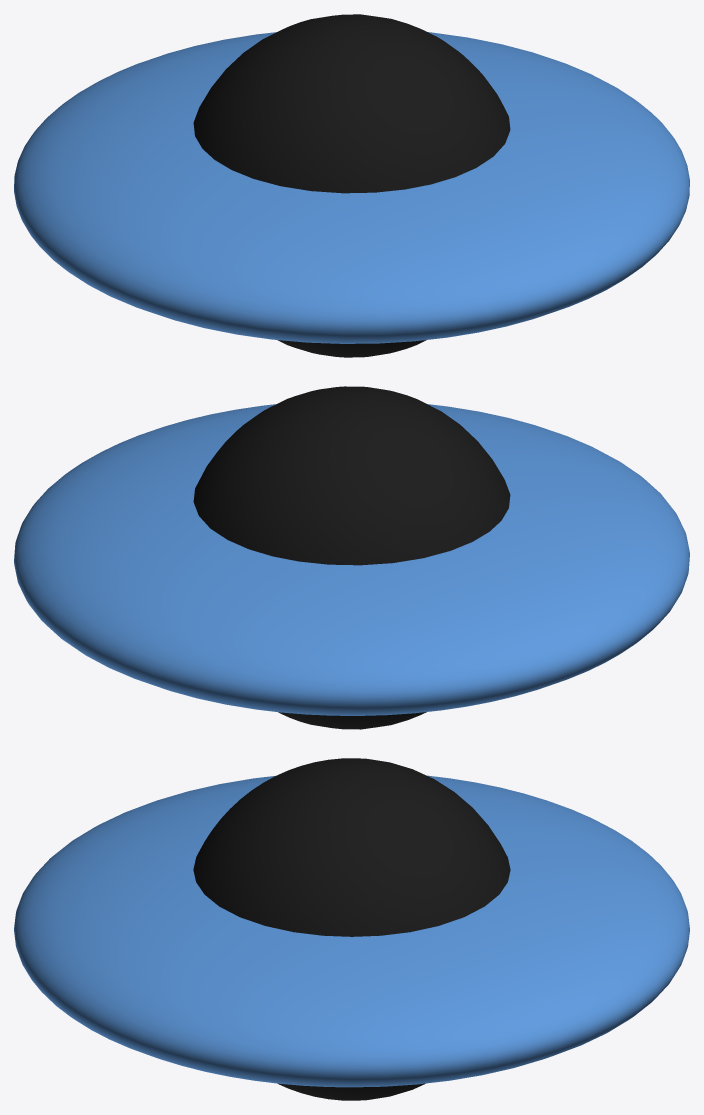
File: UFO.fbx
3 views of the same model, one above another, from view 1: azimuth 30°, elevation 25°; view 2: azimuth 150°, elevation 25°; view 3: azimuth 270°, elevation 25° (orthographic).
Visible parts, largest first — view 1: Body1; view 2: Body1; view 3: Body1.
Part boxes in pixels (x1,y1,x2,y2): Body1: (14,14,689,357); Body1: (14,386,689,729); Body1: (14,758,689,1100).
Bounding box in the file's own units: 0.03 × 0.0152 × 0.03.
